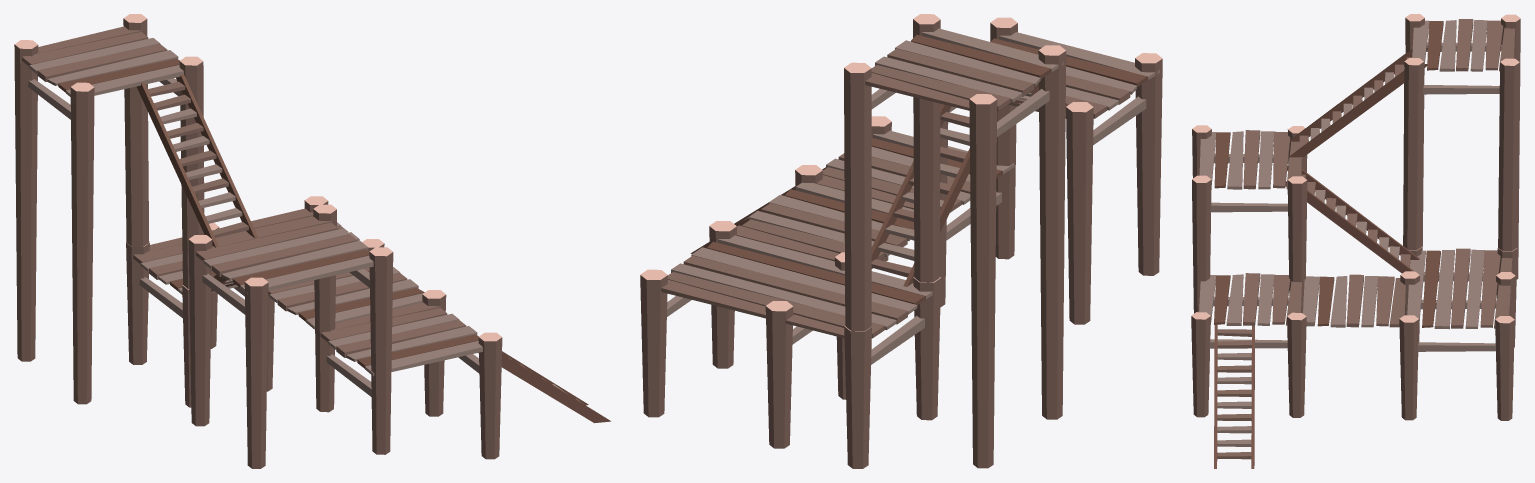
File: platform_008.fbx
3 views of the same model, side by side, from view 1: azimuth 30°, elevation 25°; view 2: azimuth 150°, elevation 25°; view 3: azimuth 270°, elevation 25° (orthographic). The views are drawn at different scales.
Parts seen in each view (by area): view 1: platform.008; view 2: platform.008; view 3: platform.008.
Boxes of the visible parts, <box> form: platform.008: <box>14,14,610,468</box>; platform.008: <box>640,14,1162,468</box>; platform.008: <box>1191,14,1520,468</box>.
Bounding box in the file's own units: 2071 × 1632 × 1704.
Materials: 1 (1 with a texture image).
